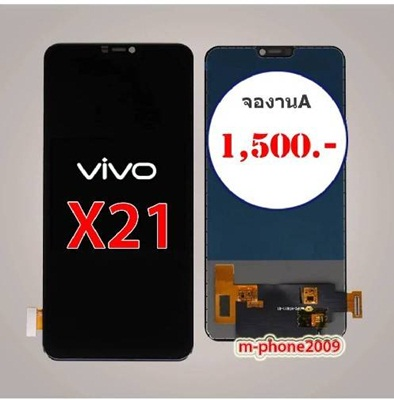Phone: (41, 42, 194, 363)
